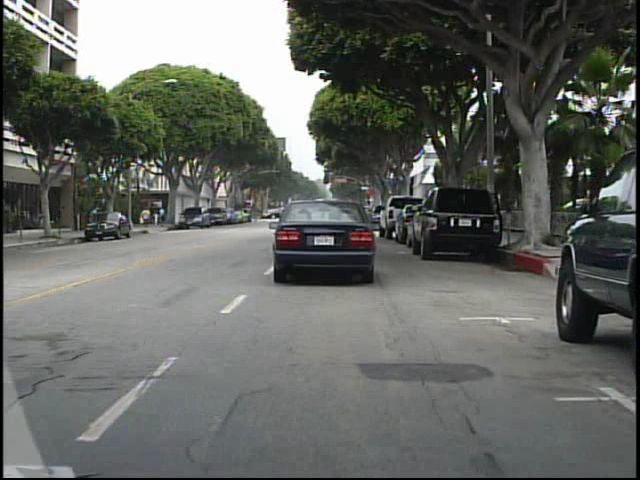person: (141, 203, 157, 233), (158, 203, 171, 230)
